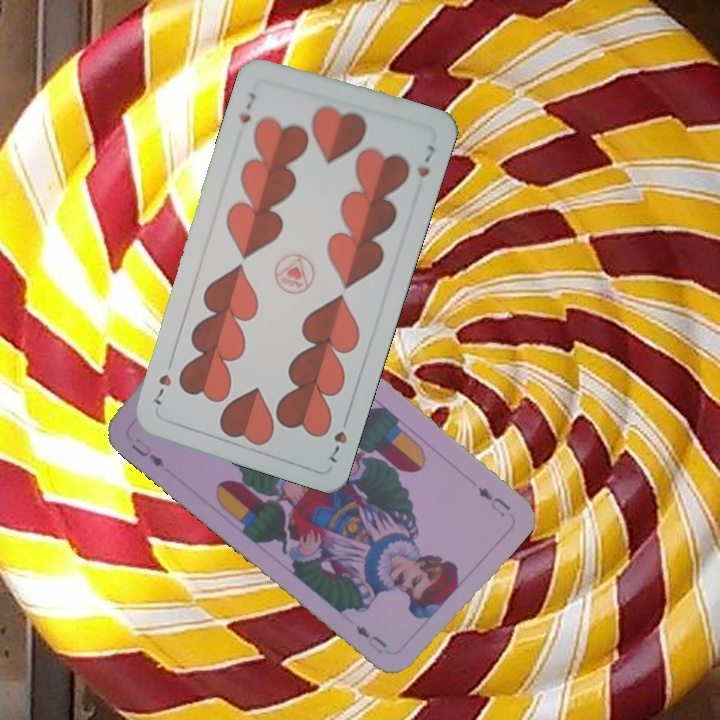EU: (127, 433, 167, 471), (474, 483, 514, 520)
H7: (326, 410, 352, 466), (235, 88, 259, 127)
